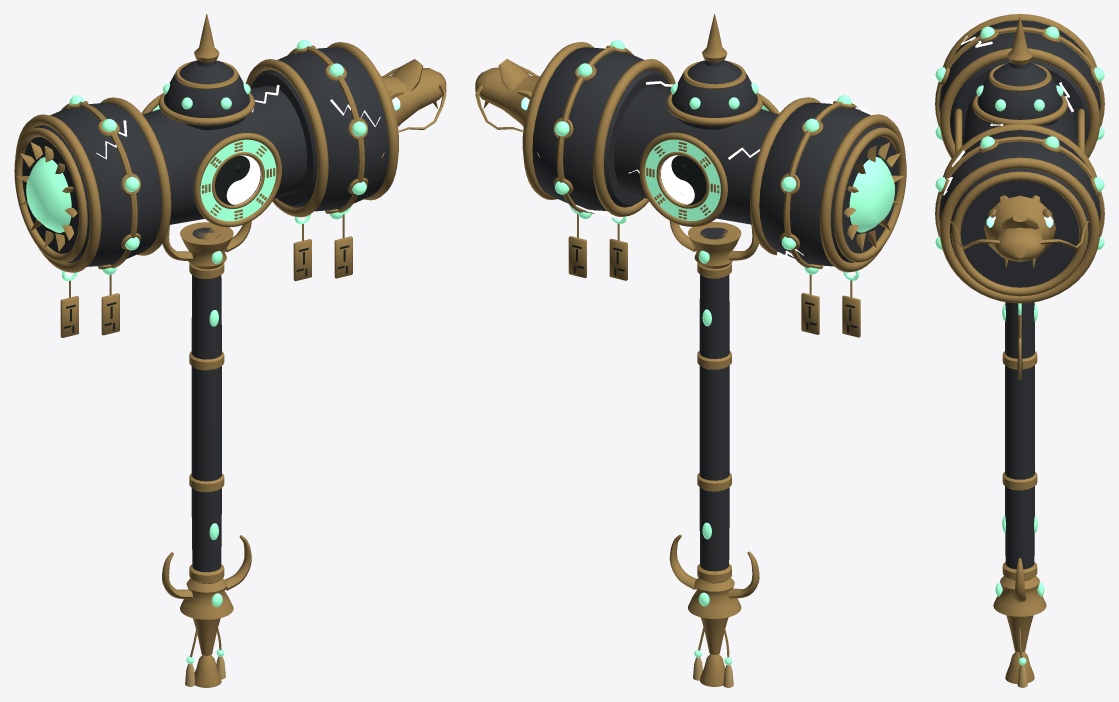
Rendered from wp-hammer-thunder.glb.
The picture shows the model from 3 angles, left to right: view 1: azimuth 30°, elevation 25°; view 2: azimuth 150°, elevation 25°; view 3: azimuth 270°, elevation 25°; orthographic projection.
Visible parts, largest first — view 1: wp-hammer-thunder; view 2: wp-hammer-thunder; view 3: wp-hammer-thunder.
Part boxes in pixels (bbox=[...]): wp-hammer-thunder: bbox=[14, 14, 446, 687]; wp-hammer-thunder: bbox=[475, 14, 906, 687]; wp-hammer-thunder: bbox=[935, 14, 1104, 687].
Size of the model in its own units: 0.6959 by 1.1 by 0.255.
